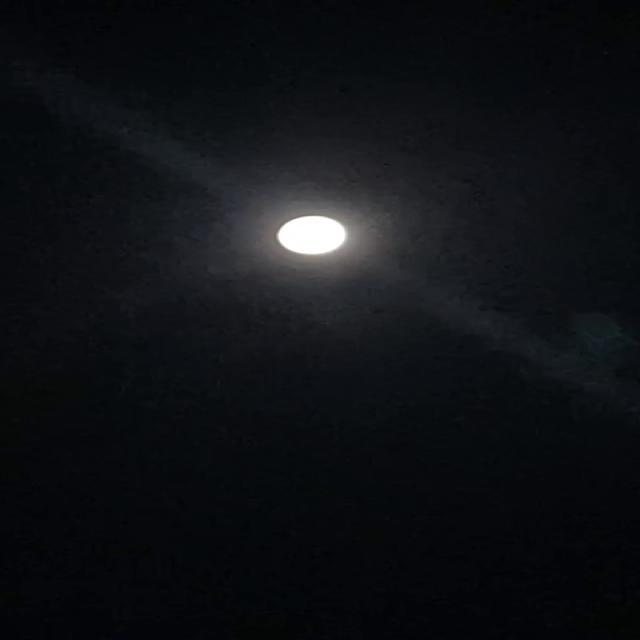moon: (250, 210, 366, 268)
